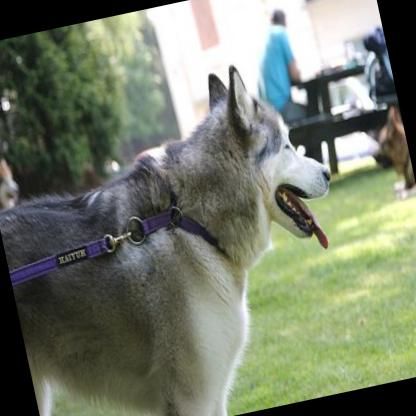malamute: (0, 47, 374, 416)
